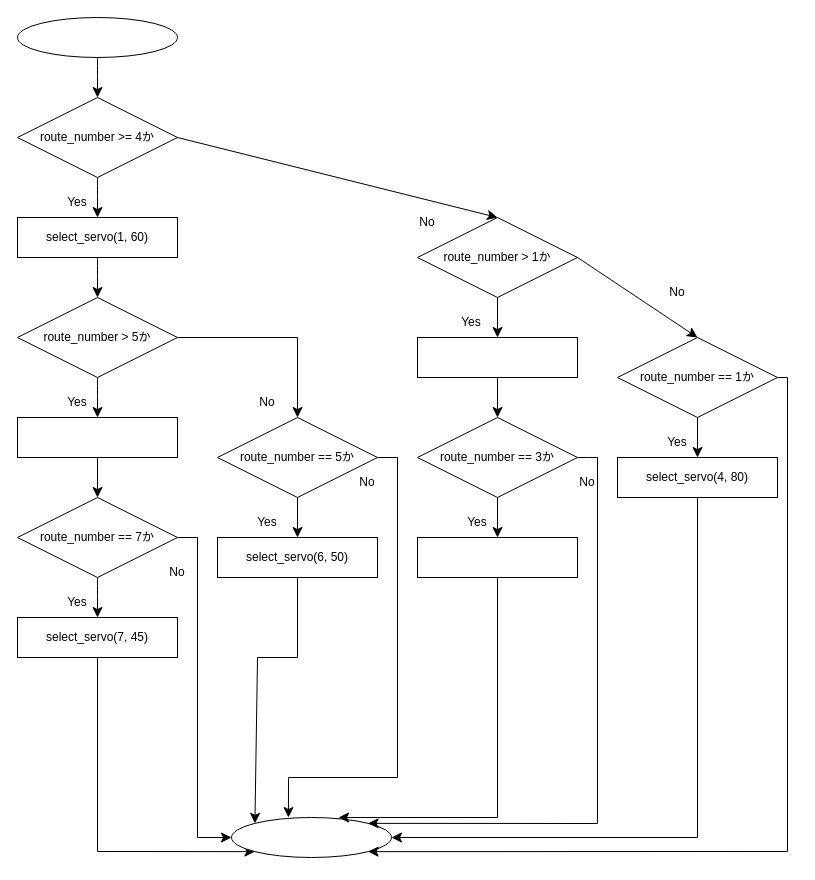
This 815x880 diagram has some shape labels left out. Here are the shapes that lost their labels. From the top down, the centre of each, then its label:
the point at 97,37: 開始
the point at 497,357: select_servo(2, 90)
the point at 97,437: select_servo(3, 120)
the point at 497,557: select_servo(5, 45)
the point at 311,837: 終了
